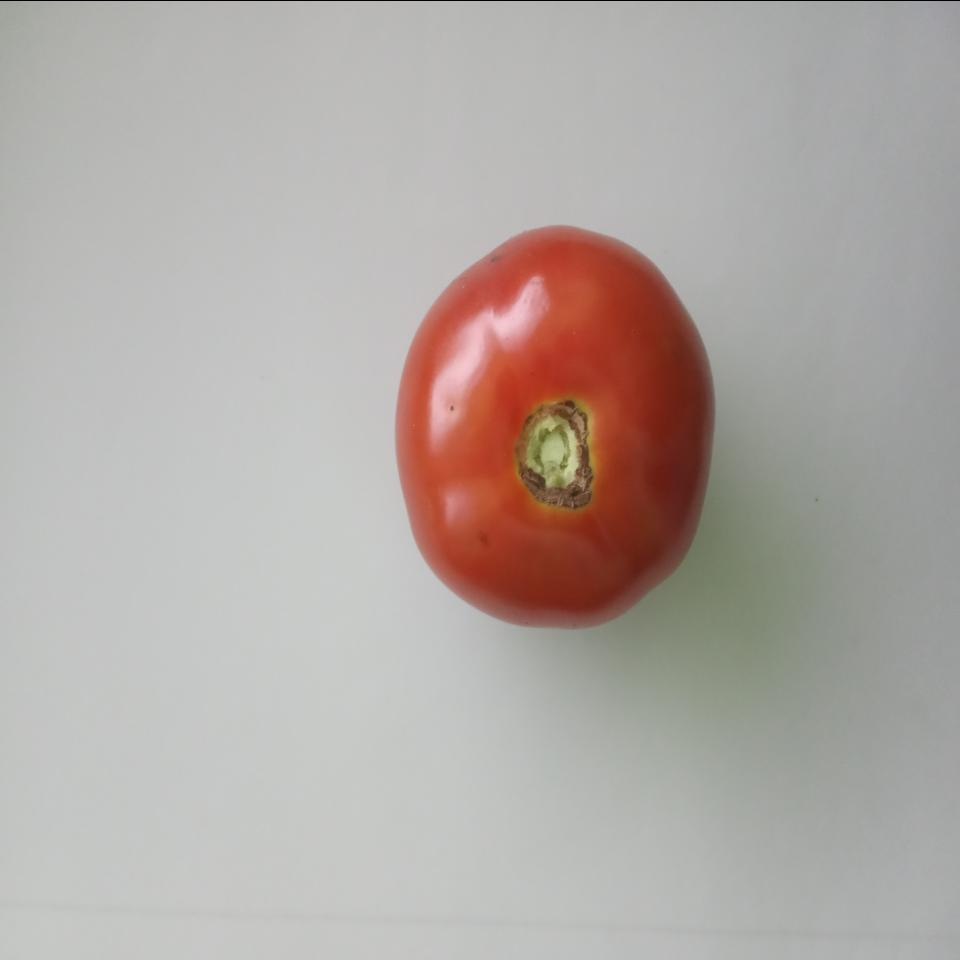Healthy: (383, 200, 730, 646)
